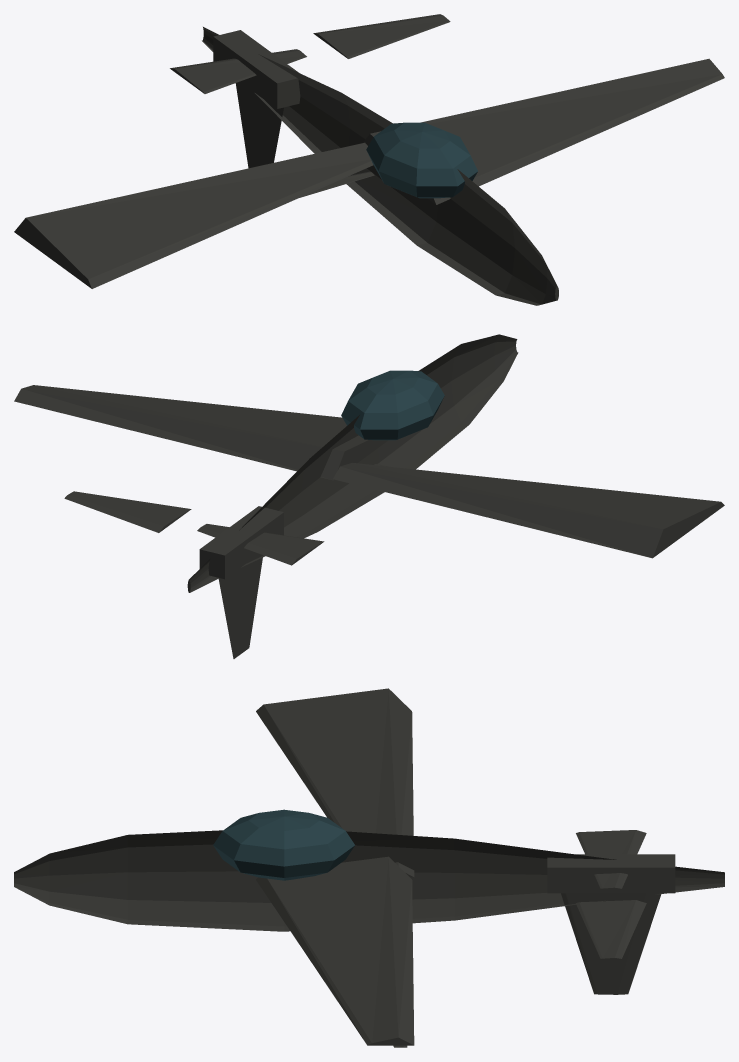
File: fw190_Destroyed.glb
3 views of the same model, one above another, from view 1: azimuth 30°, elevation 25°; view 2: azimuth 150°, elevation 25°; view 3: azimuth 270°, elevation 25° (orthographic). The views are drawn at different scales.
Parts seen in each view (by area): view 1: Wing_L, Fuselage, Wing_R, Cockpit, TailBoom, Elevator_R, Rudder, Elevator_L; view 2: Wing_L, Wing_R, Fuselage, Cockpit, TailBoom, Rudder, Elevator_R, Elevator_L; view 3: Fuselage, Wing_R, Wing_L, Cockpit, TailBoom, Rudder, Elevator_R, Elevator_L.
Boxes of the visible parts, x1,y1,x2,y2 form: Wing_L: (14, 142, 373, 288); Fuselage: (202, 27, 558, 305); Wing_R: (363, 58, 724, 204); Cockpit: (366, 122, 477, 198); TailBoom: (213, 30, 300, 108); Elevator_R: (313, 14, 450, 58); Rudder: (235, 81, 283, 168); Elevator_L: (170, 49, 306, 93); Wing_L: (333, 463, 724, 558); Wing_R: (14, 385, 388, 480); Fuselage: (187, 334, 518, 592); Cockpit: (341, 370, 444, 440); TailBoom: (199, 506, 283, 579); Rudder: (218, 554, 263, 658); Elevator_R: (64, 491, 191, 532); Elevator_L: (197, 524, 324, 565); Fuselage: (14, 830, 724, 931); Wing_R: (256, 856, 414, 1045); Wing_L: (256, 688, 414, 877); Cockpit: (213, 809, 354, 880); TailBoom: (547, 854, 675, 893); Rudder: (561, 893, 661, 994); Elevator_R: (575, 900, 646, 958); Elevator_L: (576, 830, 646, 888).
Bounding box in the file's own units: 10.08 × 2.48 × 9.
